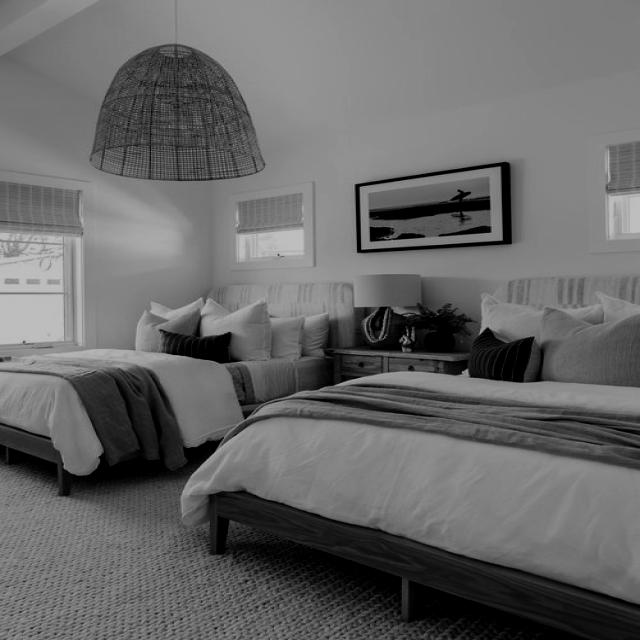bed: (243, 275, 639, 640), (2, 276, 357, 476)
